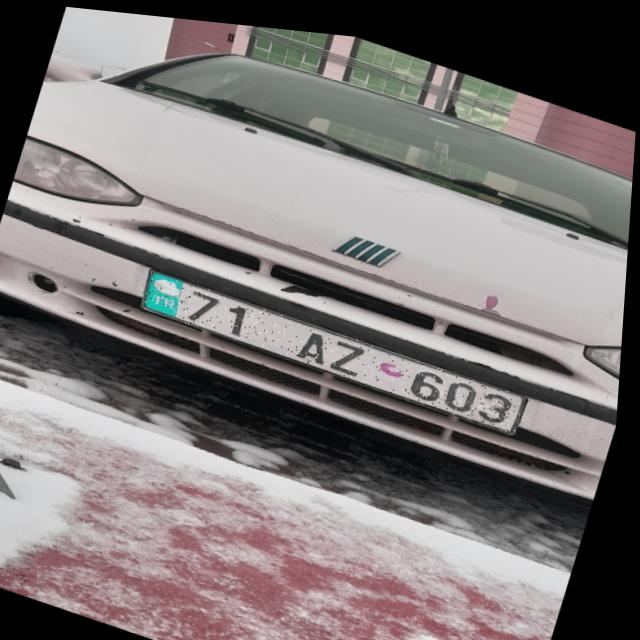license_plate: (139, 265, 535, 424)
